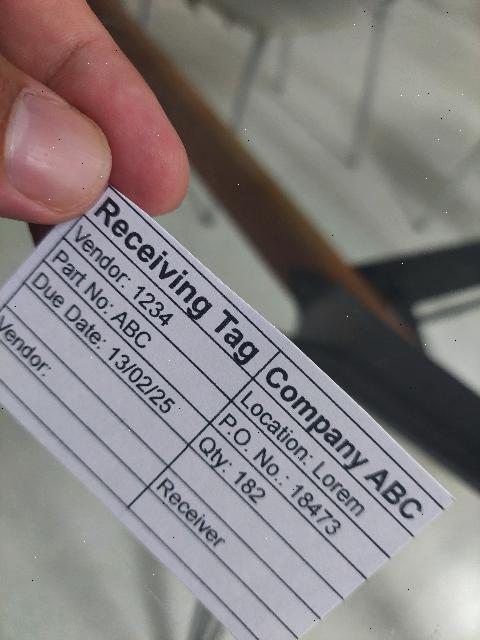PO no: (211, 400, 391, 581)
part no: (43, 238, 230, 424)
qty: (187, 422, 367, 600)
tags: (0, 187, 454, 640)
